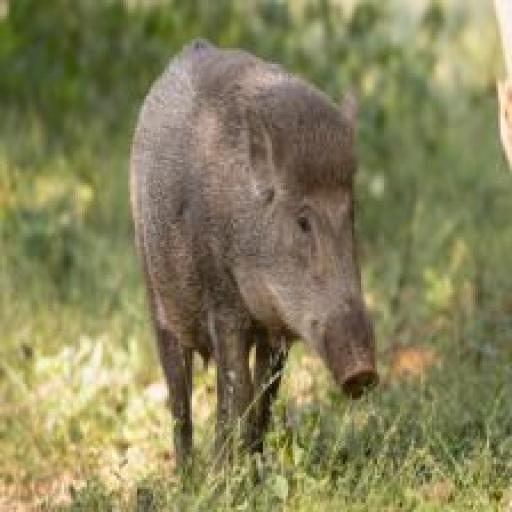Pig: (119, 30, 386, 478)
